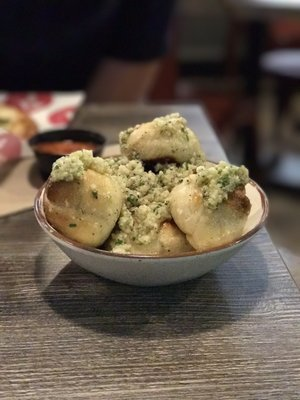curry: (118, 112, 207, 166), (196, 162, 250, 210)
sushi: (30, 114, 271, 288)
